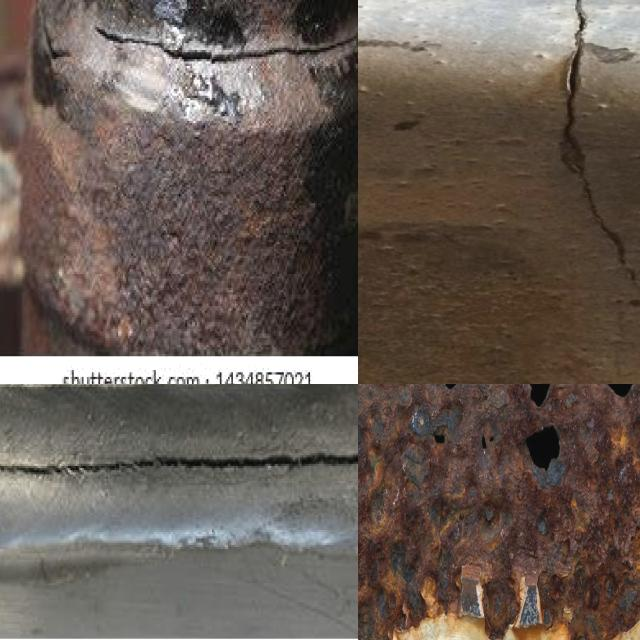Crack: (561, 0, 622, 265), (97, 18, 358, 59), (0, 453, 358, 474)
Pitting Corrosion: (358, 384, 640, 640)
